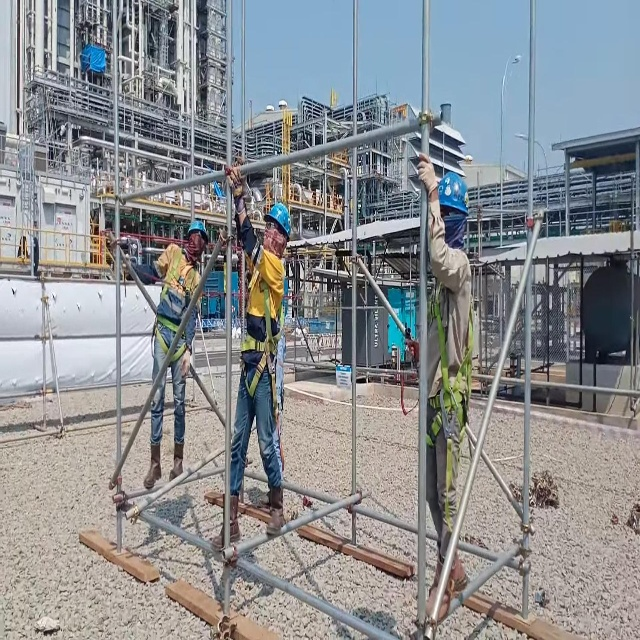Arnes_seguridad: (429, 273, 473, 524), (239, 267, 287, 428), (154, 234, 203, 373)
